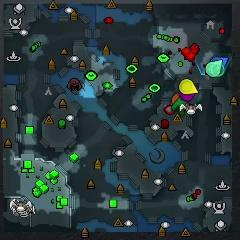p1: (211, 57, 229, 68)
p2: (206, 60, 223, 76)
p3: (179, 92, 195, 101)
p4: (180, 79, 199, 94)
p5: (172, 93, 180, 104)
x4: (173, 98, 189, 116)
